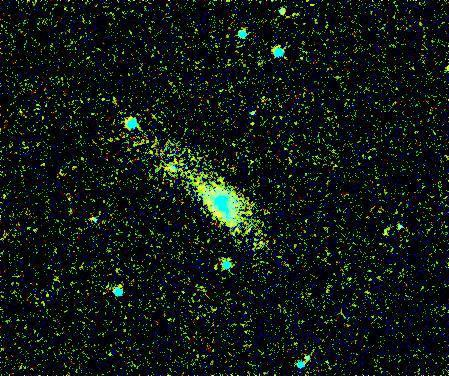star: (239, 109, 269, 139)
